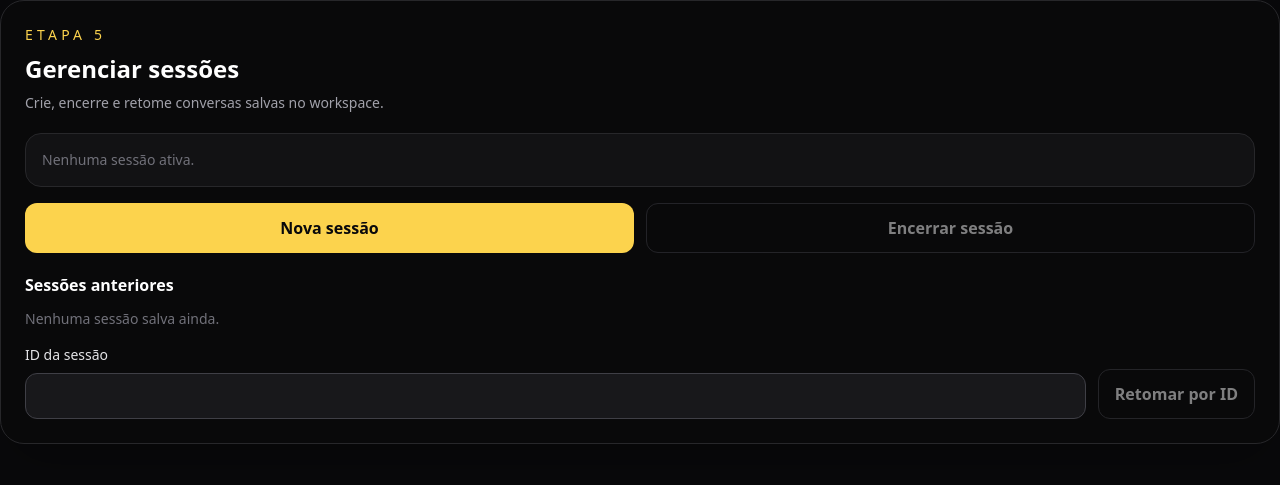
Test: SessionPanel › creates and renders active session
This screenshot has width=1280, height=485.
Click the button "Nova sessão" at (330, 228), box left=25, top=203, right=634, bottom=253
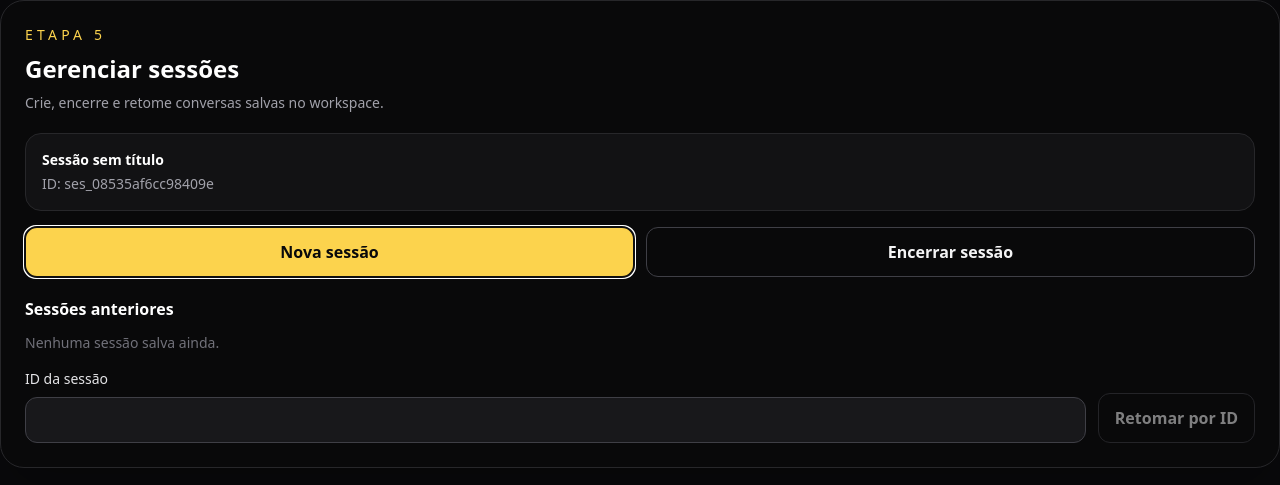
Check: the text "ID: ses_08535af6cc98409e" is shown, box left=42, top=174, right=214, bottom=193
